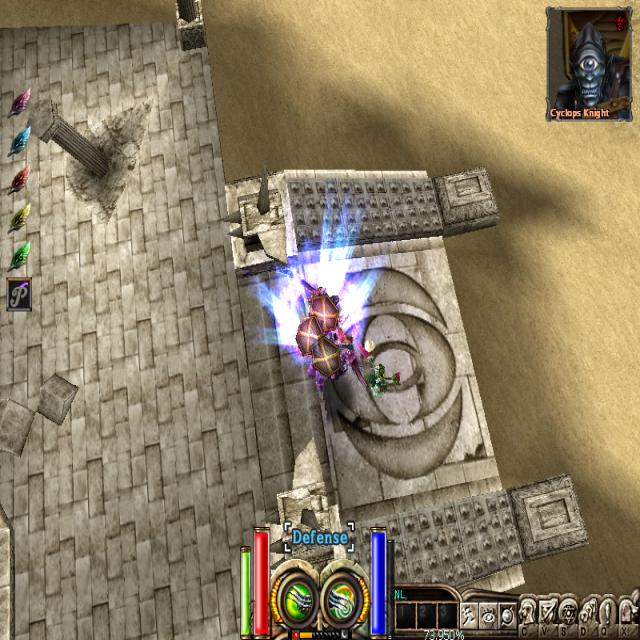monster: (358, 351, 406, 407)
